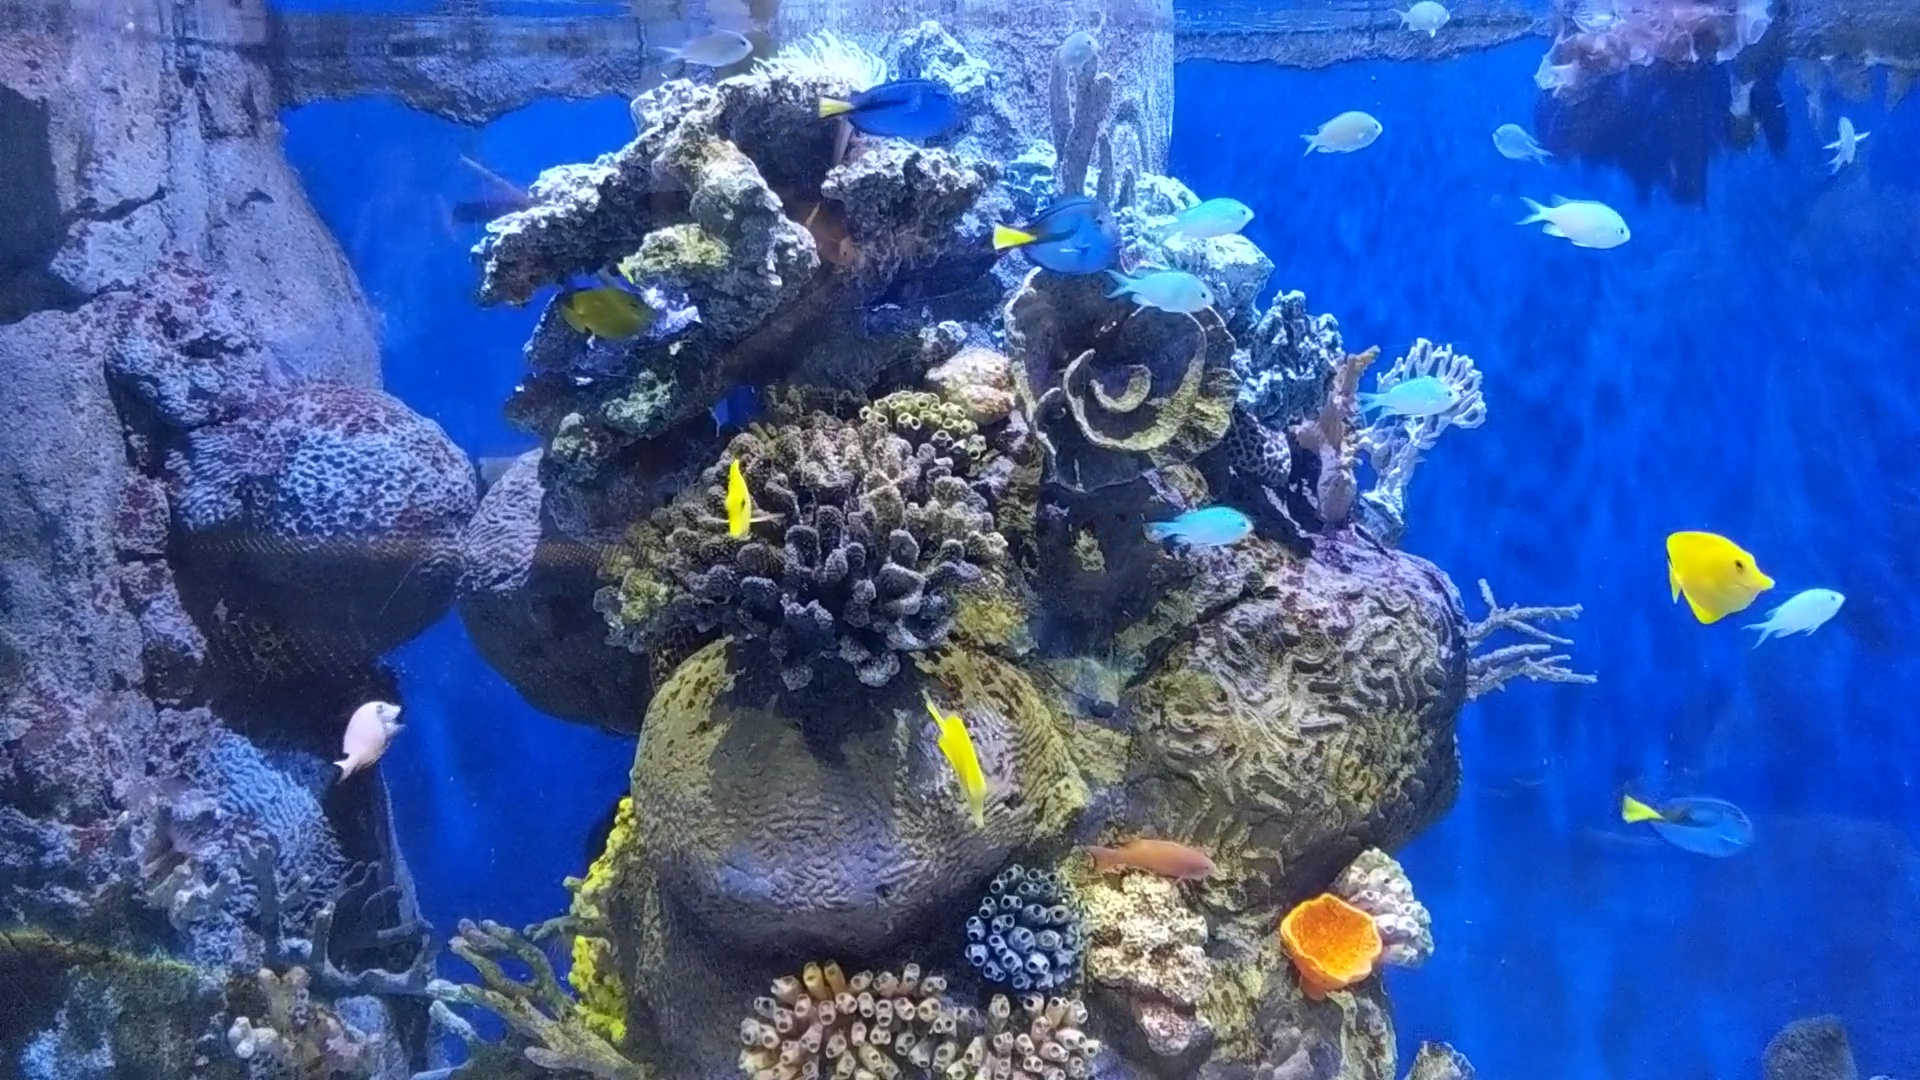blue tang surgeonfish: (984, 196, 1131, 280), (1615, 785, 1760, 862), (808, 75, 971, 140), (700, 386, 783, 434)
damselfish: (1514, 191, 1629, 255), (1749, 582, 1845, 655), (1142, 502, 1255, 551), (1296, 103, 1385, 165), (1147, 196, 1269, 241), (1106, 265, 1218, 313), (1338, 378, 1464, 419), (650, 32, 762, 71), (1818, 113, 1879, 178), (1487, 116, 1561, 165), (1046, 25, 1105, 76), (1393, 0, 1457, 44)
saddle butterfly fish: (1658, 525, 1782, 628), (918, 683, 1000, 828), (539, 278, 665, 347), (713, 452, 765, 546)
